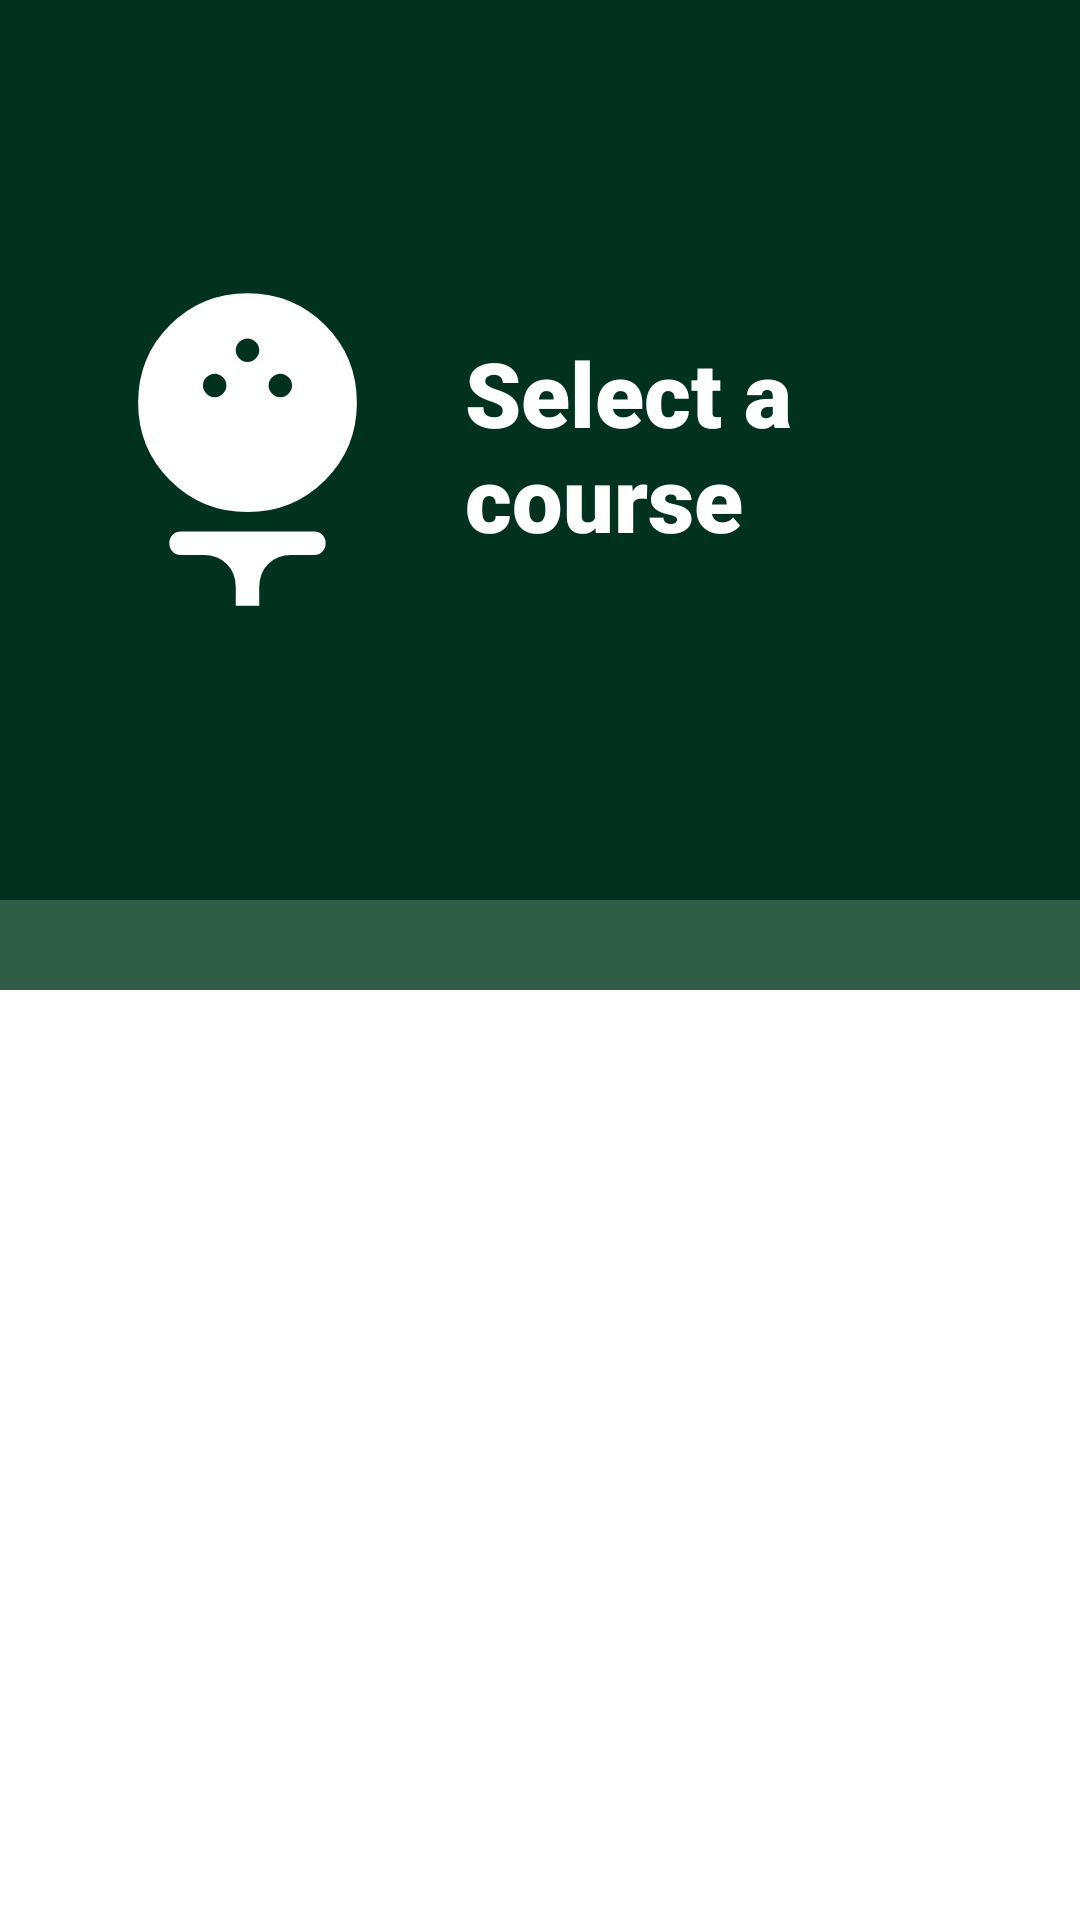

Icons on this 1080px×1920px Android screen, each with its box as box=[x1, y1, x2, y2]:
play round: box=[138, 293, 357, 606]
